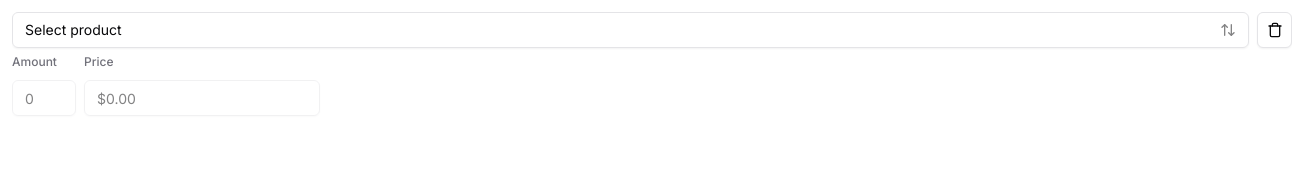
Test: OrderProductField › displays stock information after product selection
Click the dropdown at (73, 30), box top-left (12, 12), bottom-right (1249, 48)
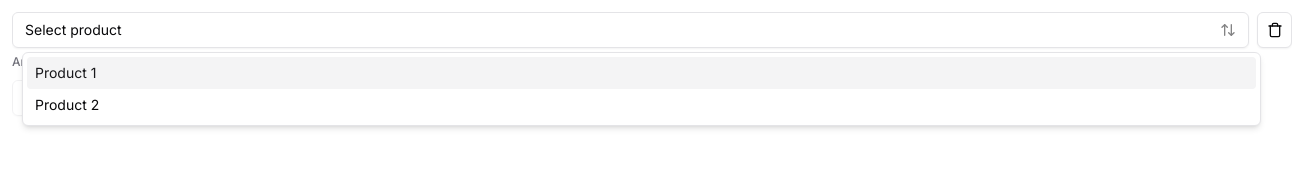
Click the option "Product 2" at (67, 104), box top-left (35, 96), bottom-right (99, 113)
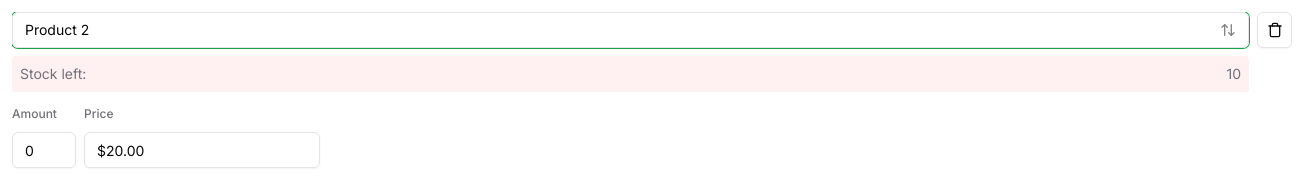
Check: the text "Stock left:" is shown, box top-left (20, 64), bottom-right (86, 84)
Check: the text "10" is shown, box top-left (1227, 64), bottom-right (1241, 84)
